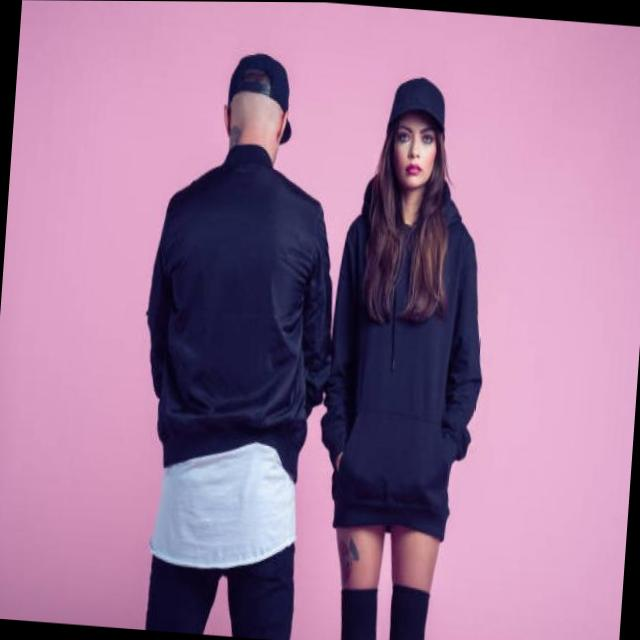no helmet: (206, 34, 316, 193)
